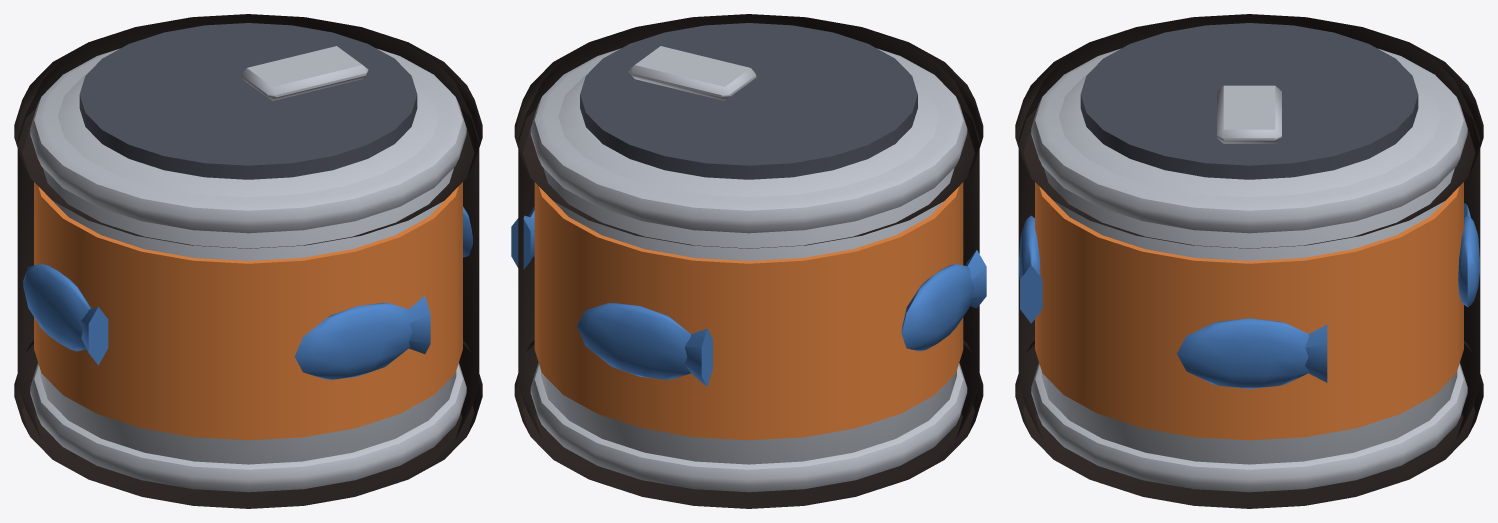
The model's file is Treat_Can.fbx.
The picture shows the model from 3 angles, left to right: view 1: azimuth 30°, elevation 25°; view 2: azimuth 150°, elevation 25°; view 3: azimuth 270°, elevation 25°; orthographic projection.
Visible parts, largest first — view 1: TR_Treat_Can_MetalLight, TR_Treat_Can_RoofOrange, TR_Treat_Can_Metal, TR_Treat_Can_Outline, TR_Treat_Can_AwningBlue; view 2: TR_Treat_Can_RoofOrange, TR_Treat_Can_MetalLight, TR_Treat_Can_Metal, TR_Treat_Can_Outline, TR_Treat_Can_AwningBlue; view 3: TR_Treat_Can_RoofOrange, TR_Treat_Can_MetalLight, TR_Treat_Can_Metal, TR_Treat_Can_Outline, TR_Treat_Can_AwningBlue.
Boxes of the visible parts, <box> form: TR_Treat_Can_MetalLight: <box>30,46,466,492</box>; TR_Treat_Can_RoofOrange: <box>34,182,462,440</box>; TR_Treat_Can_Metal: <box>79,23,417,179</box>; TR_Treat_Can_Outline: <box>14,14,482,508</box>; TR_Treat_Can_AwningBlue: <box>23,206,472,379</box>; TR_Treat_Can_RoofOrange: <box>534,182,963,440</box>; TR_Treat_Can_MetalLight: <box>530,46,967,492</box>; TR_Treat_Can_Metal: <box>580,23,917,179</box>; TR_Treat_Can_Outline: <box>514,14,983,508</box>; TR_Treat_Can_AwningBlue: <box>511,206,986,386</box>; TR_Treat_Can_RoofOrange: <box>1035,182,1463,440</box>; TR_Treat_Can_MetalLight: <box>1031,48,1467,492</box>; TR_Treat_Can_Metal: <box>1080,23,1418,179</box>; TR_Treat_Can_Outline: <box>1015,14,1483,508</box>; TR_Treat_Can_AwningBlue: <box>1019,203,1479,388</box>.
Bounding box in the file's own units: 0.3607 × 0.3016 × 0.3607.
